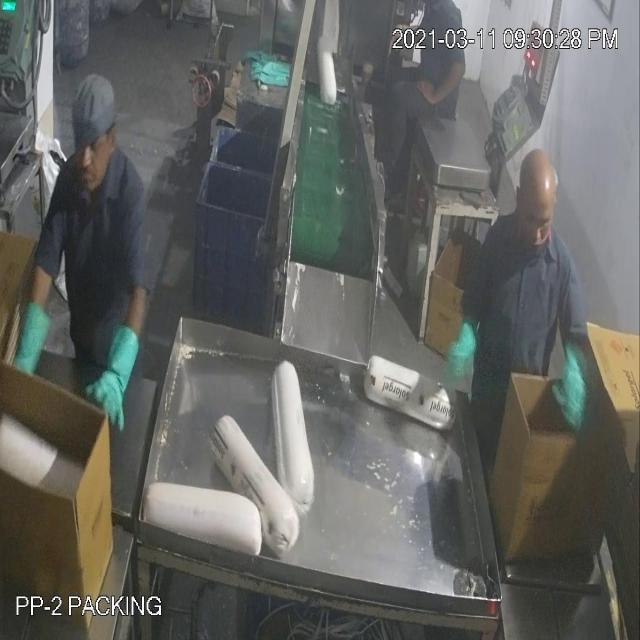No_Gloves: (56, 63, 445, 372)
